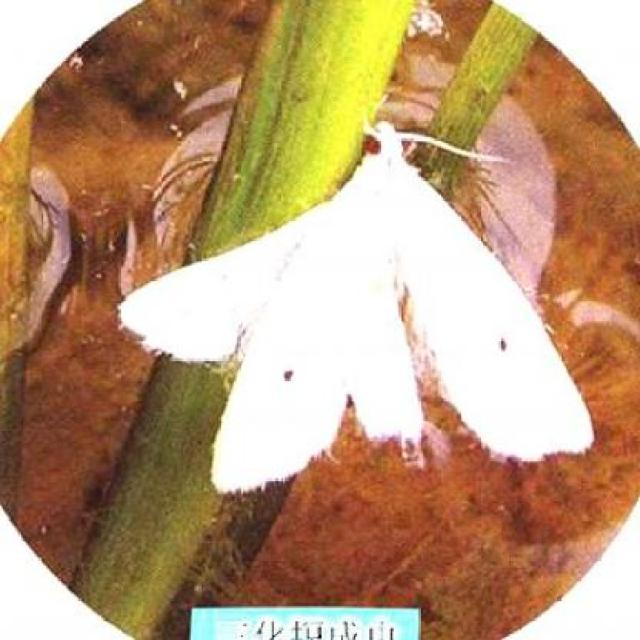stem-borer: (117, 116, 594, 500)
